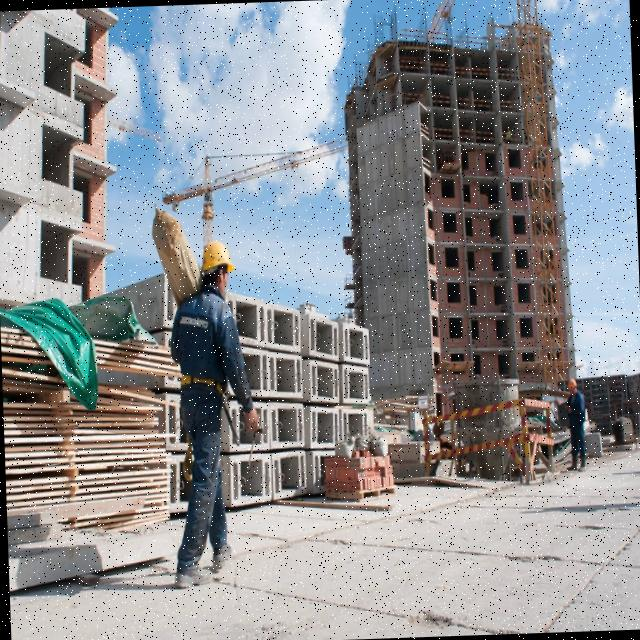Helmet: (200, 241, 236, 302), (567, 380, 581, 399)
NoJacket: (179, 290, 227, 425), (568, 395, 585, 442)
